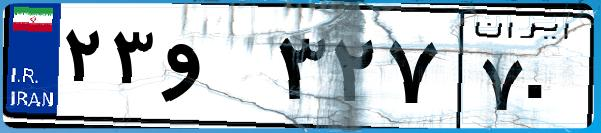0: (525, 38, 570, 115)
2: (330, 28, 385, 110), (57, 26, 110, 100)
3: (270, 28, 330, 110), (110, 28, 158, 98)
7: (385, 28, 445, 110), (475, 38, 525, 113)
و: (158, 20, 270, 120)
